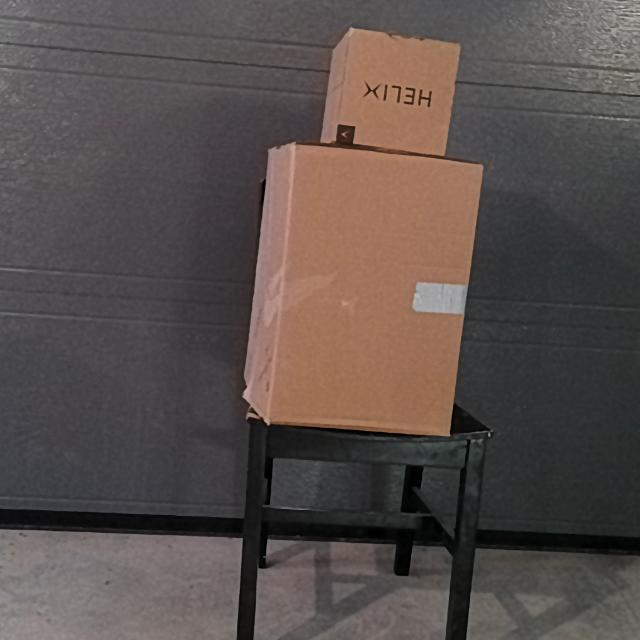box: (285, 151, 464, 429), (330, 42, 455, 151)
